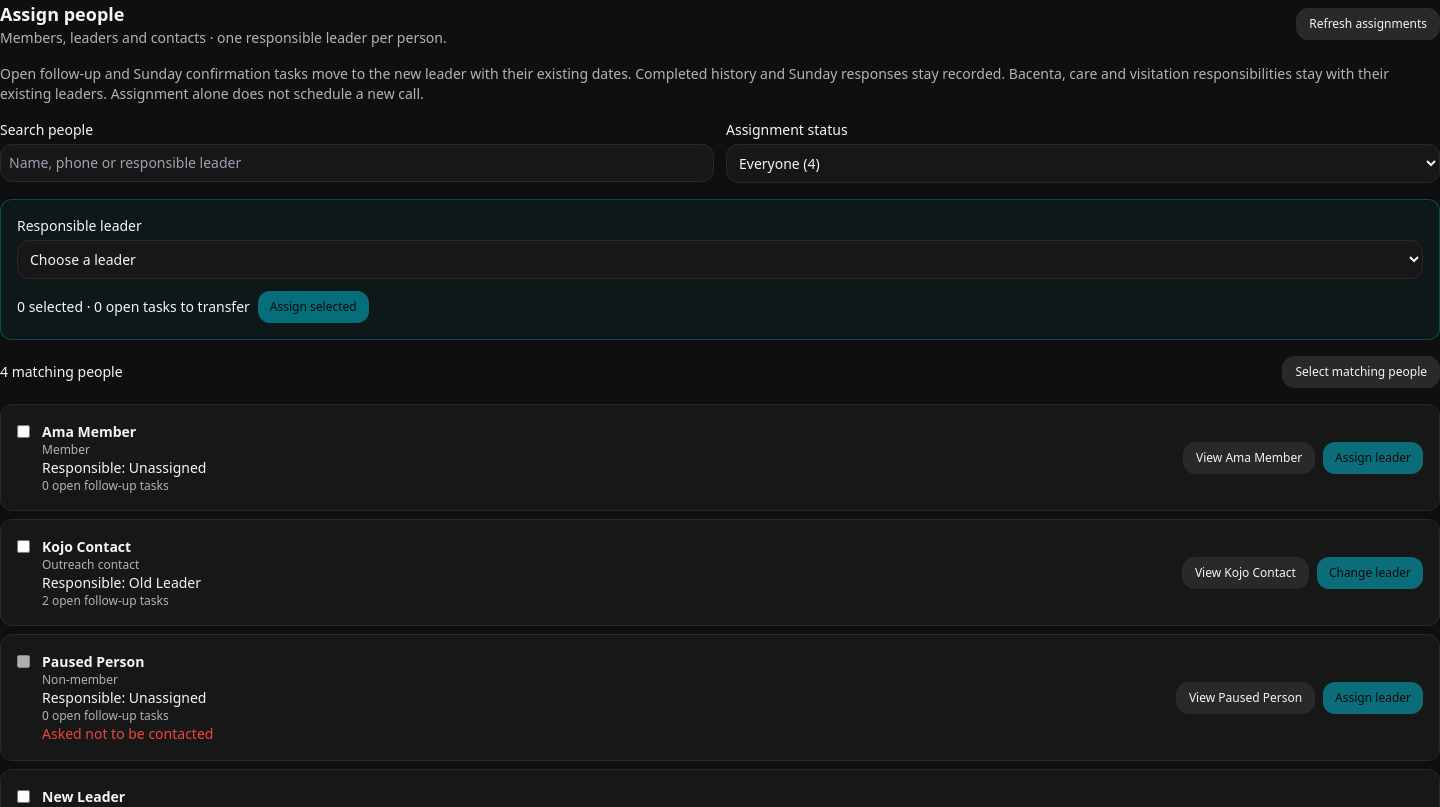
Test: Follow-up assignment management › reports each partial failure, clears only successes and retains failed selections
Expected: the checkbox named "Select Kojo Contact" is shown, [17,540,30,553]
Select "New Leader" in the dropdown labelled "Responsible leader". click: (720,260)
box: [17,240,1423,279]
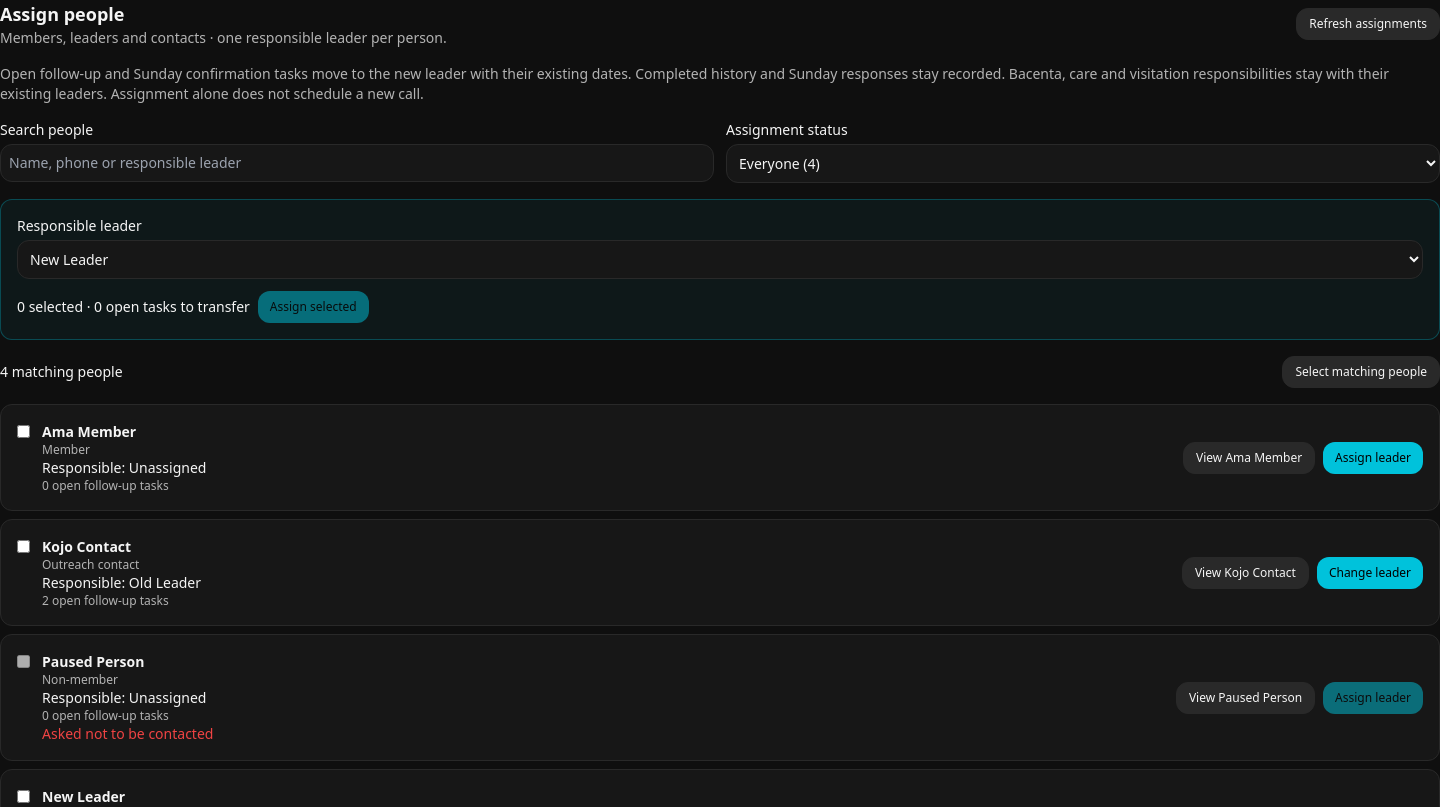
Click the checkbox named "Select Ama Member". click: (24,432)
box: [17,425,30,438]
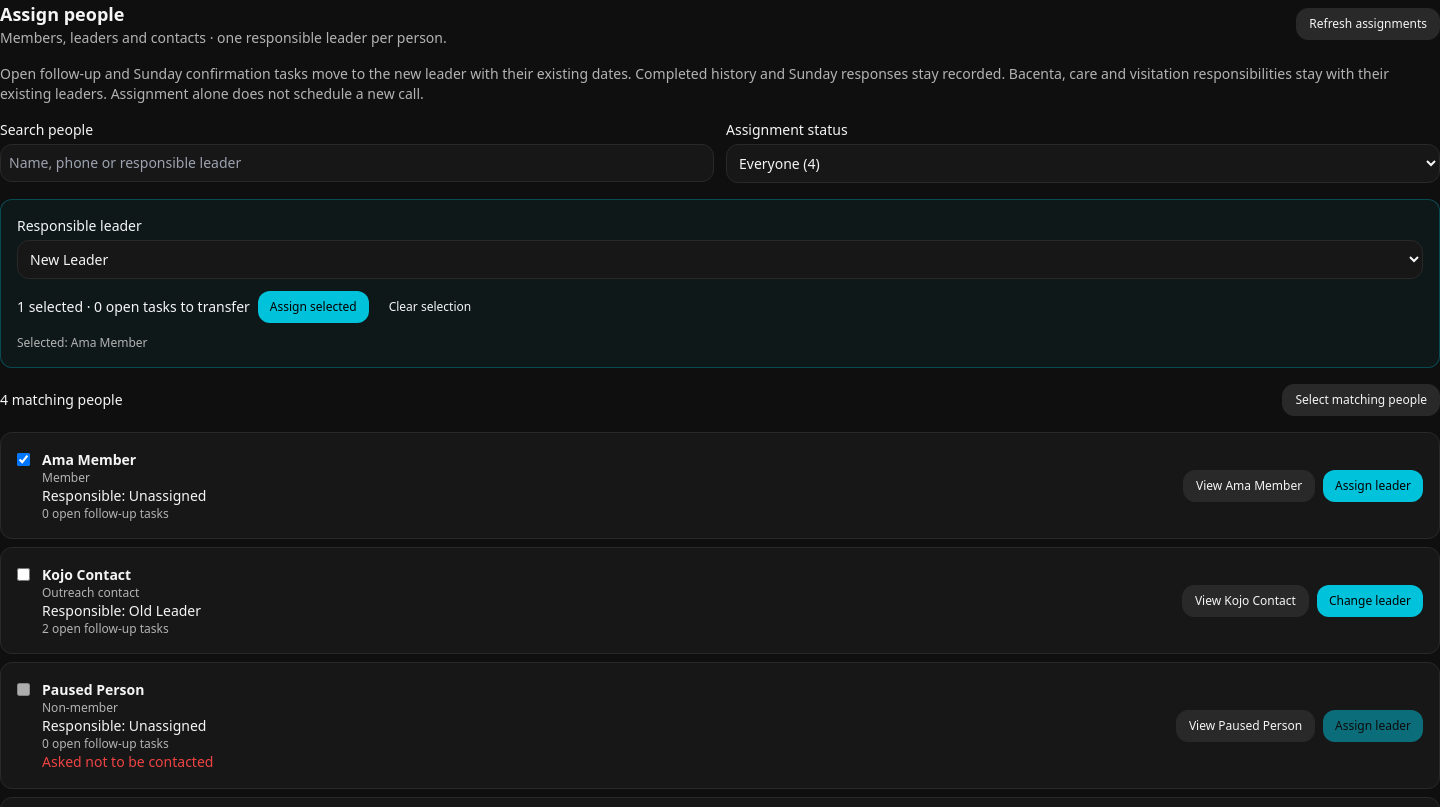
Click the checkbox named "Select Kojo Contact". click: (24,574)
box: [17,568,30,581]
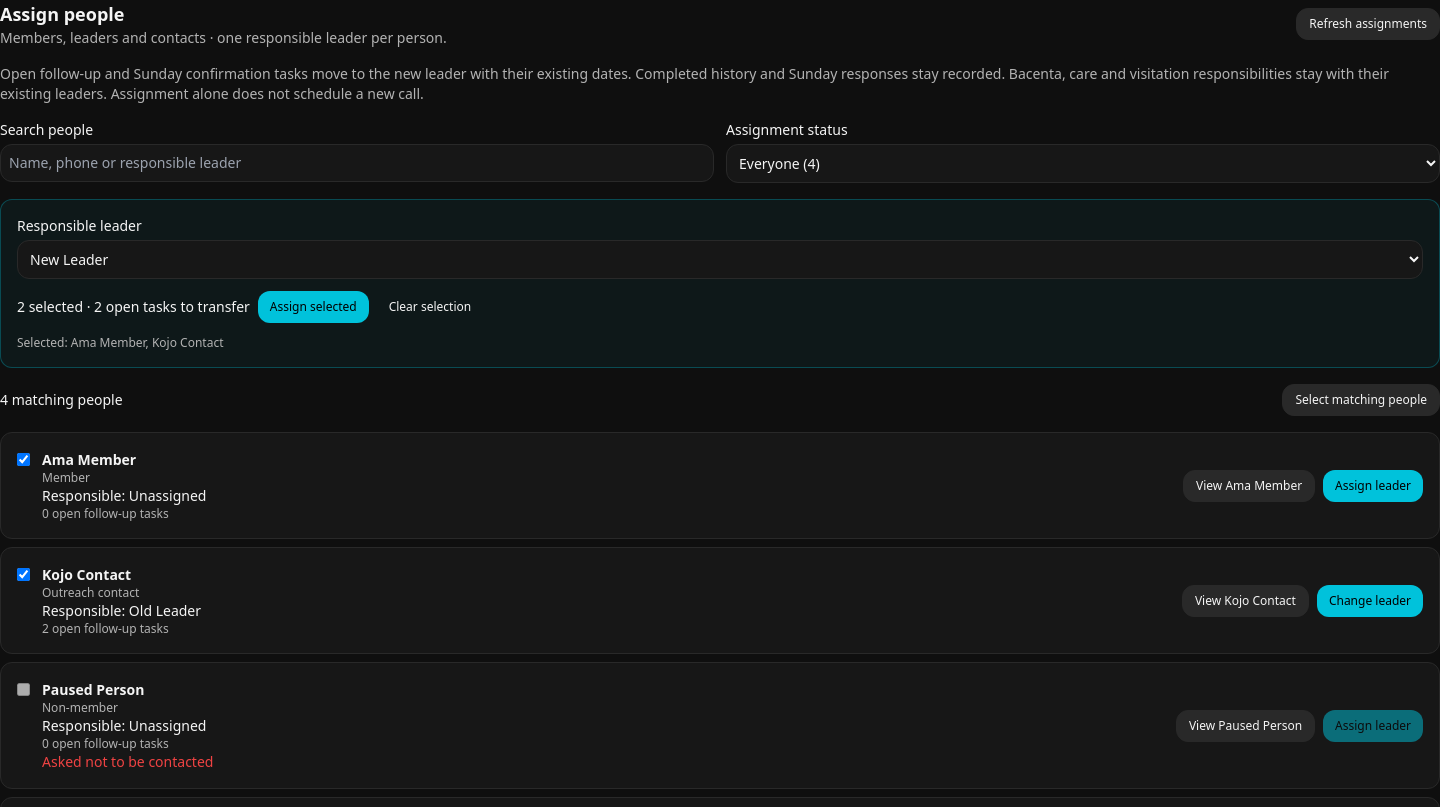
Expected: the text "2 selected · 2 open tasks to transfer" is shown, [17,297,250,317]
Click the button "Assign selected". click: (313,307)
box: [258,291,369,323]
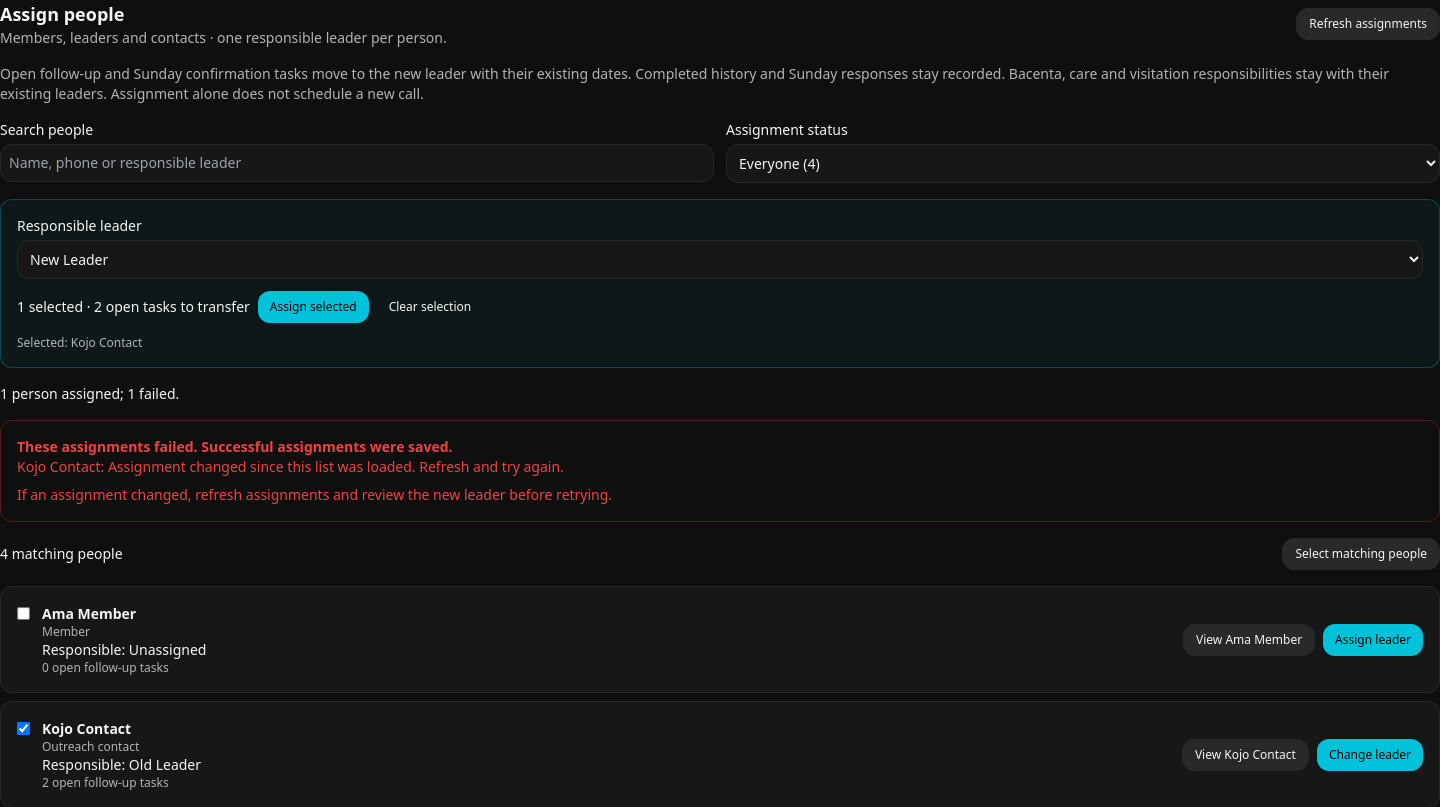
Expected: the checkbox named "Select Kojo Contact" is checked, [17,722,30,735]
Expected: the text "1 person assigned; 1 failed." is shown, [0,384,179,403]
Expected: the 2nd message shows "Kojo Contact: Assignment changed", [17,457,564,476]
Click the button "Refresh assignments". click: (1368,24)
box: [1296,8,1439,40]
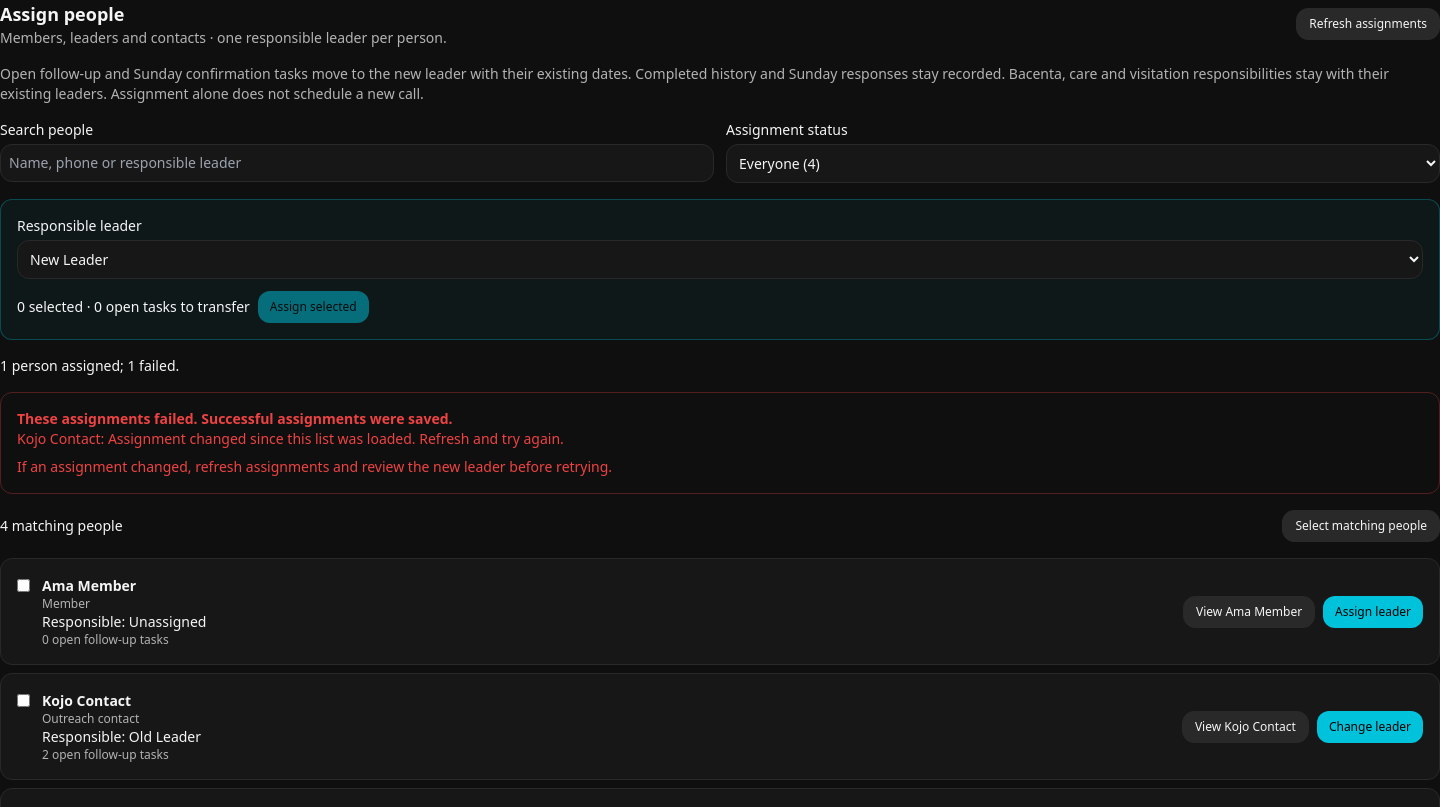
Expected: the checkbox named "Select Kojo Contact" is not checked, [17,694,30,707]
